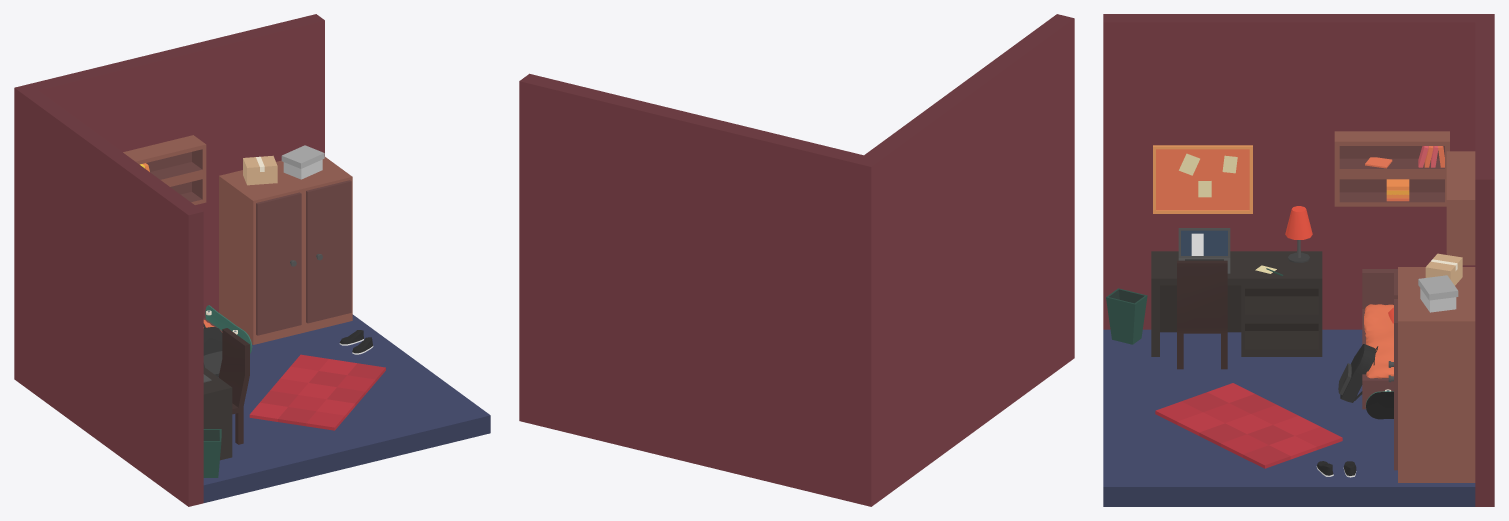
The picture shows the model from 3 angles, left to right: view 1: azimuth 30°, elevation 25°; view 2: azimuth 150°, elevation 25°; view 3: azimuth 270°, elevation 25°; orthographic projection. The views are drawn at different scales.
Visible parts, largest first — view 1: Room; view 2: Room; view 3: Room.
Part boxes in pixels (box(x1,y1,x2,y2)): Room: box(14, 14, 490, 506); Room: box(519, 14, 1074, 506); Room: box(1103, 14, 1494, 506).
Bounding box in the file's own units: 2.67 × 2.47 × 2.67.
1 material, 1 textured.
